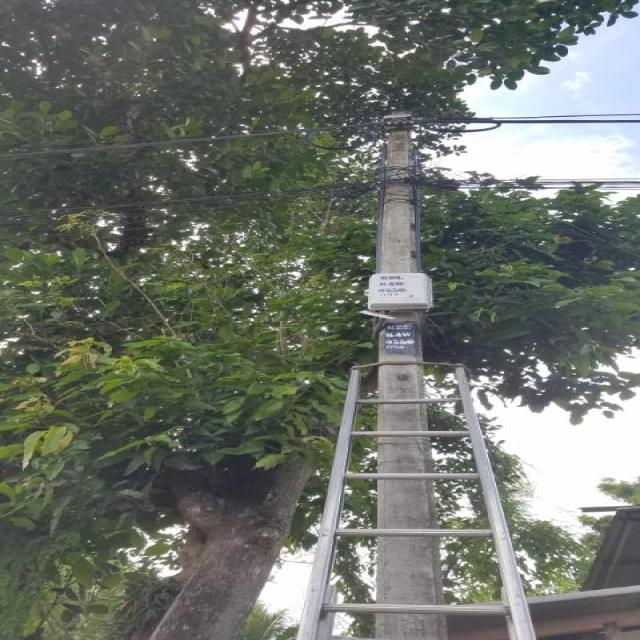light_pole: (350, 106, 445, 640)
